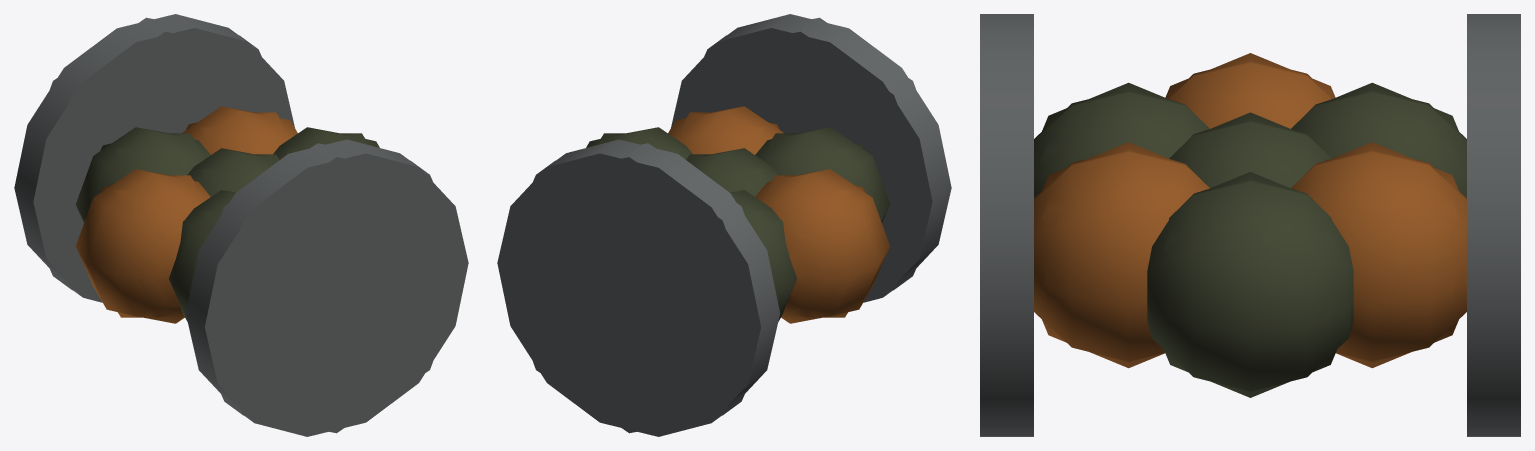
File: gr_scatter.glb
3 renders of one model, left to right at view 1: azimuth 30°, elevation 25°; view 2: azimuth 150°, elevation 25°; view 3: azimuth 270°, elevation 25°, orthographic. The views are drawn at different scales.
Visible parts, largest first — view 1: L0, L1; view 2: L0, L1; view 3: L0, L1.
Boxes of the visible parts, <box> form: L0: <box>14,14,468,436</box>; L1: <box>33,17,467,433</box>; L0: <box>497,14,951,436</box>; L1: <box>498,17,931,433</box>; L0: <box>980,14,1520,436</box>; L1: <box>980,28,1520,428</box>.
Size of the model in its own units: 0.094 by 0.08 by 0.1.
